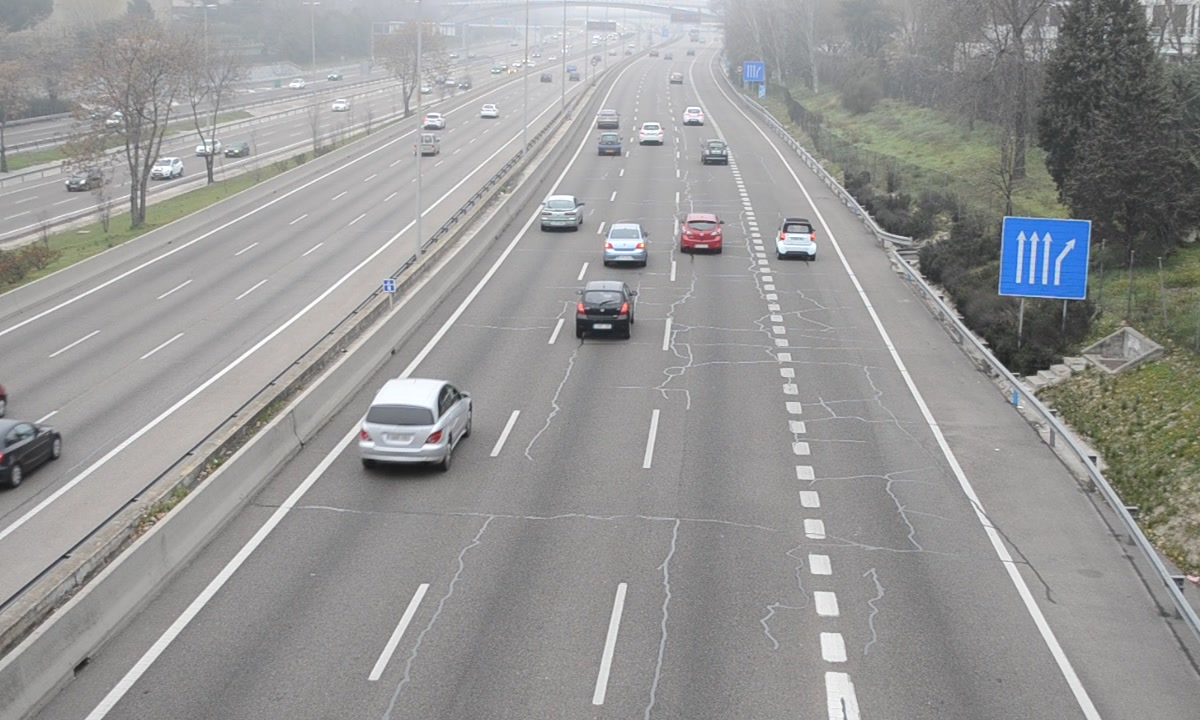car: (357, 378, 472, 467), (576, 279, 634, 340), (603, 223, 649, 271), (681, 213, 725, 256), (776, 217, 818, 261), (540, 194, 584, 233), (701, 139, 729, 166), (596, 132, 624, 158), (638, 120, 665, 146), (596, 108, 621, 130)
